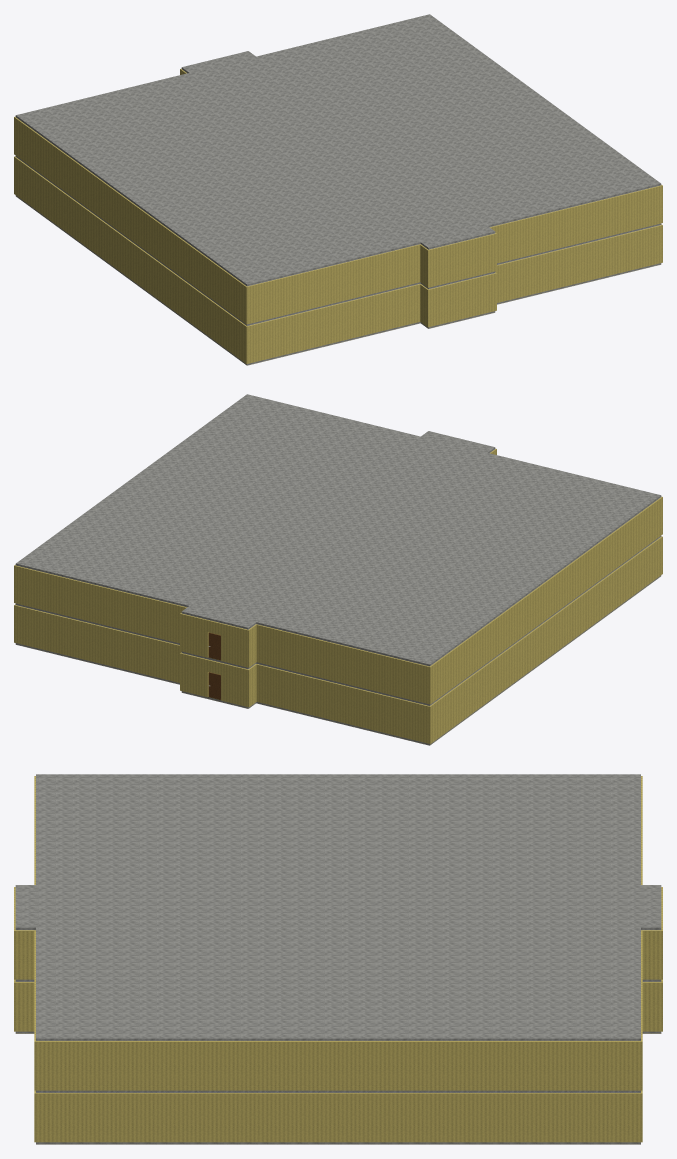
Rendered from backrooms_full.glb.
3 views of the same model, one above another, from view 1: azimuth 30°, elevation 25°; view 2: azimuth 150°, elevation 25°; view 3: azimuth 270°, elevation 25° (orthographic). The views are drawn at different scales.
Parts seen in each view (by area): view 1: Roof, F2_Walls, F1_Walls, F2_Slab, F1_Slab; view 2: Roof, F2_Walls, F1_Walls, F2_Slab, F1_Slab; view 3: Roof, F2_Walls, F1_Walls, F1_Slab, F2_Slab.
Boxes of the visible parts, left/top/right/bottom form: Roof: left=15, top=14, right=661, bottom=286; F2_Walls: left=14, top=68, right=662, bottom=324; F1_Walls: left=14, top=156, right=662, bottom=363; F2_Slab: left=15, top=156, right=661, bottom=325; F1_Slab: left=15, top=195, right=661, bottom=365; Roof: left=15, top=394, right=661, bottom=666; F2_Walls: left=14, top=448, right=662, bottom=704; F1_Walls: left=14, top=536, right=662, bottom=743; F2_Slab: left=15, top=536, right=661, bottom=705; F1_Slab: left=15, top=575, right=661, bottom=745; Roof: left=15, top=774, right=661, bottom=1040; F2_Walls: left=14, top=776, right=662, bottom=1090; F1_Walls: left=14, top=979, right=662, bottom=1142; F1_Slab: left=15, top=1031, right=661, bottom=1144; F2_Slab: left=15, top=979, right=661, bottom=1092.
Size of the model in its own units: 37.4 by 6.97 by 38.6.
Materials: 24 (10 with a texture image).
